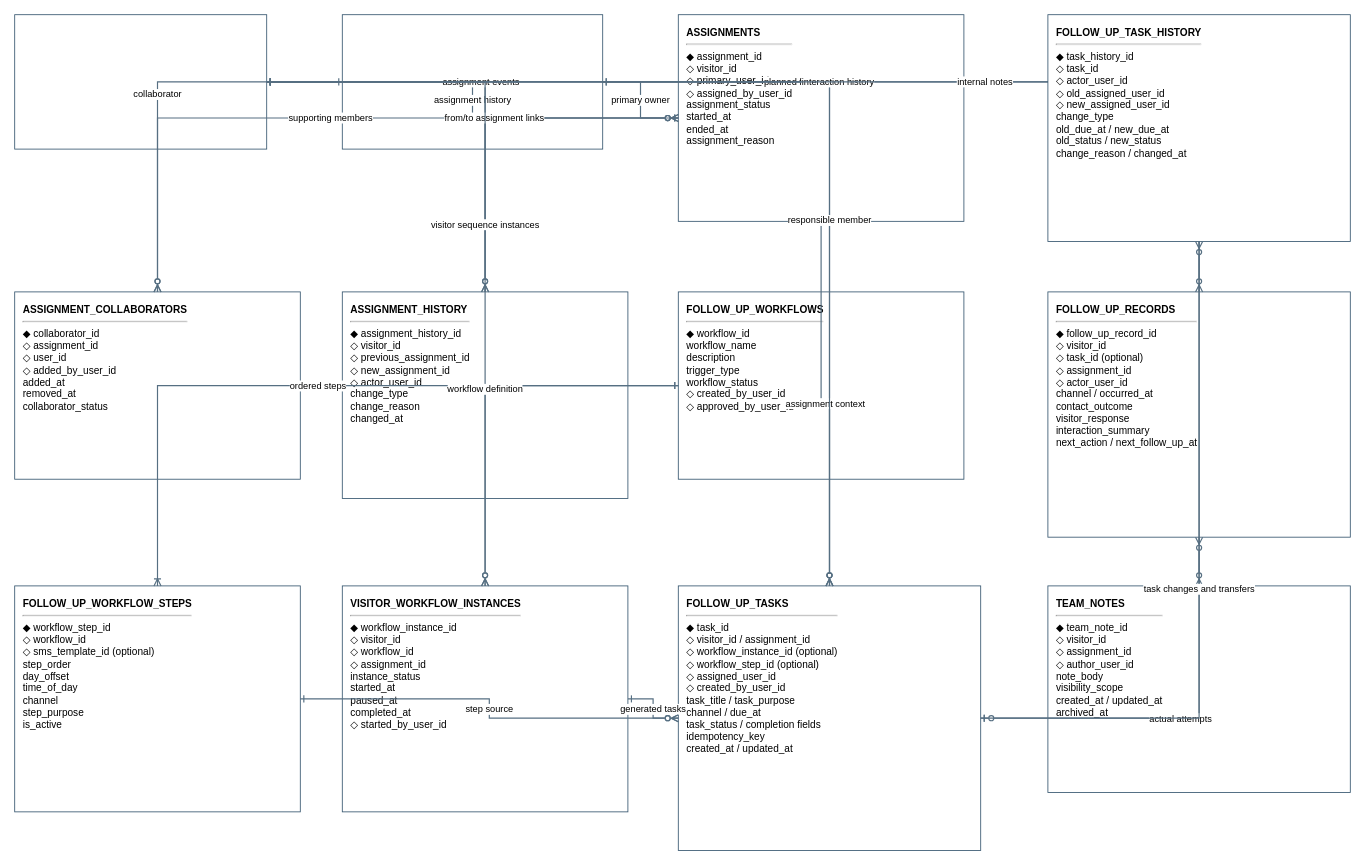
Image size: 1365x865. Some labels were removed from this diagram. Each missing label, with the centre of its shape:
"USER_PROFILES ◆ user_id full_name role_id account_status" goes at [472,81].
"VISITORS ◆ visitor_id full_name lifecycle_status engagement_status" goes at [140,81].
